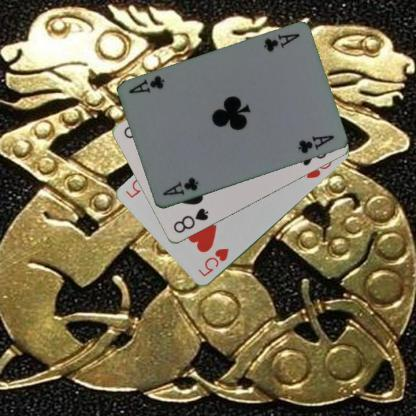5h: (195, 245, 230, 278)
8s: (170, 206, 209, 235)
Ac: (160, 175, 200, 198), (260, 31, 300, 54)
